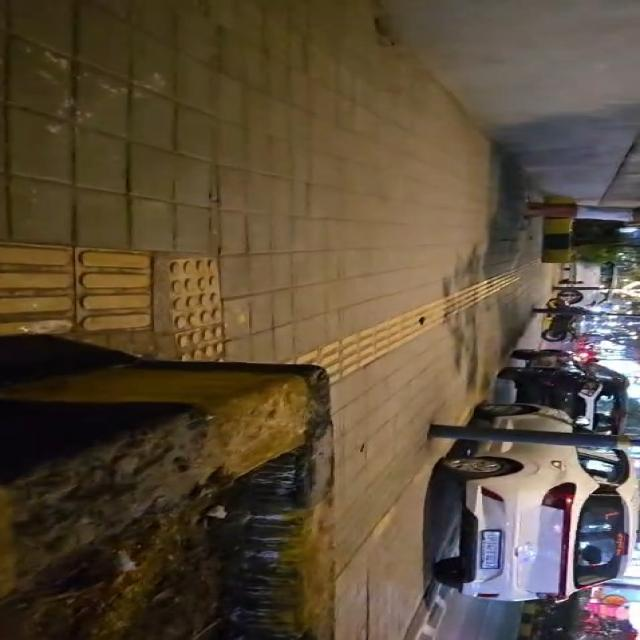obstacle: (0, 337, 333, 639), (429, 424, 639, 448), (532, 307, 639, 318), (553, 284, 603, 291)
